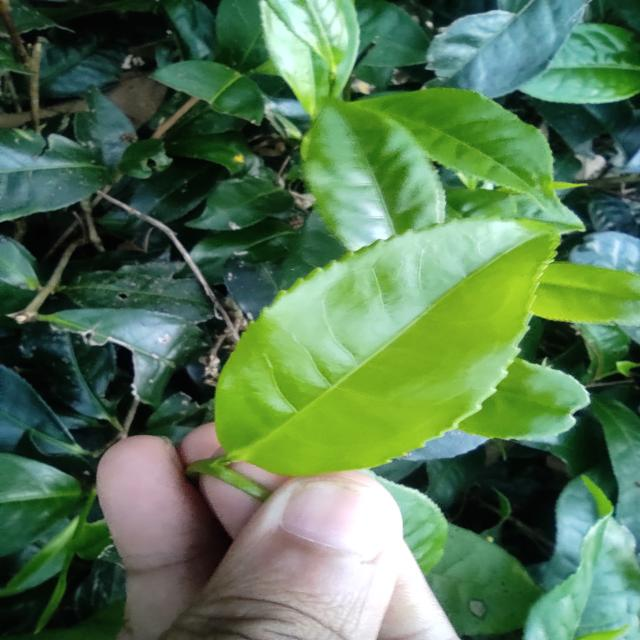Category C 4-7 days: (180, 190, 582, 535)
